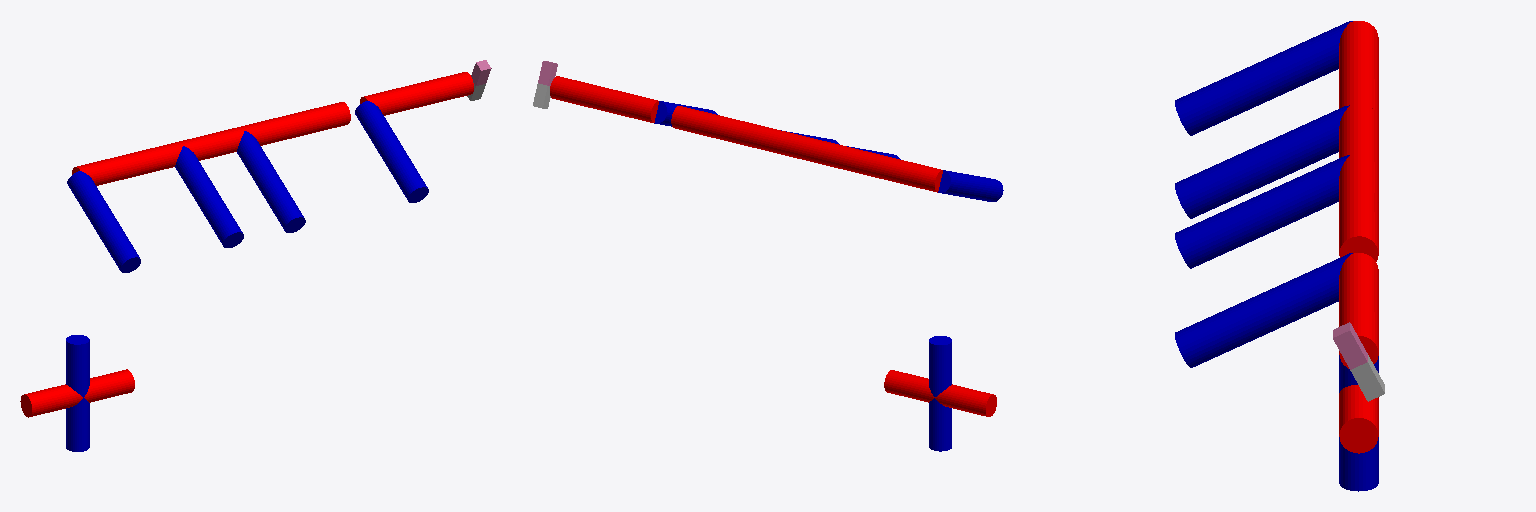
The robot description file, URDF, robot "example_robot":
<robot name="example_robot">

    <!-- Link 0 -->
    <link name="link0_passive">
        <visual>
            <material name="blue">
                <color rgba="0 0 .8 1"/>
            </material>
            <geometry>
                <cylinder length="0.5" radius="0.05"/>
            </geometry>
        </visual>
    </link>

    <link name="link0_x_axis">
        <visual>
            <material name="red">
                <color rgba="1 0 0 1"/>
            </material>
            <geometry>
                <cylinder length="0.5" radius="0.05"/>
            </geometry>
        </visual>
    </link>

    <joint name="q0_x" type="fixed">
        <origin xyz="0 0 0" rpy="0 1.571 0"/>
        <parent link="link0_passive"/>
        <child link="link0_x_axis"/>
    </joint>

    <!-- Link 1 -->
    <link name="link1"/>
    <link name="link1_x_axis">
        <visual>
            <origin xyz="0 0 0.25" rpy="0 0 0"/>
            <material name="red"/>
            <geometry>
                <cylinder length="0.5" radius="0.05"/>
            </geometry>
        </visual>
    </link>

    <joint name="q1" type="revolute">
        <origin xyz="0 0 1" rpy="0 0 0"/>
        <parent link="link0_passive"/>
        <child link="link1"/>
        <axis xyz="0 0 1"/>
        <limit effort="100" lower="-1.571" upper="1.571" velocity="1.0"/>
    </joint>

    <joint name="q1_passive" type="fixed">
        <origin xyz="0 0 0" rpy="90 0 0"/>
        <parent link="link1"/>
        <child link="link1_passive"/>
    </joint>

    <link name="link1_passive">
        <visual>
            <origin xyz="0 0 0.25" rpy="0 0 0"/>
            <material name="blue"/>
            <geometry>
                <cylinder length="0.5" radius="0.05"/>
            </geometry>
        </visual>
    </link>

    <joint name="q1_x" type="fixed">
        <origin xyz="0 0 0" rpy="0 1.571 0"/>
        <parent link="link1_passive"/>
        <child link="link1_x_axis"/>
    </joint>

    <!-- Link 2 -->
    <link name="link2"/>
    <link name="link2_x_axis">
        <visual>
            <origin xyz="0 0 0.25" rpy="0 0 0"/>
            <material name="red"/>
            <geometry>
                <cylinder length="0.5" radius="0.05"/>
            </geometry>
        </visual>
    </link>

    <joint name="q2" type="revolute">
        <origin xyz="0 0 0" rpy="0 0 0"/>
        <parent link="link1_passive"/>
        <child link="link2"/>
        <axis xyz="0 0 1"/>
        <limit effort="100" lower="-1.571" upper="1.571" velocity="1.0"/>
    </joint>

    <joint name="q2_passive" type="fixed">
        <origin xyz="0.5 0 0" rpy="0 0 0"/>
        <parent link="link2"/>
        <child link="link2_passive"/>
    </joint>

    <link name="link2_passive">
        <visual>
            <origin xyz="0 0 0.25" rpy="0 0 0"/>
            <material name="blue"/>
            <geometry>
                <cylinder length="0.5" radius="0.05"/>
            </geometry>
        </visual>
    </link>

    <joint name="q2_x" type="fixed">
        <origin xyz="0 0 0" rpy="0 1.571 0"/>
        <parent link="link2_passive"/>
        <child link="link2_x_axis"/>
    </joint>

    <!-- Link 3 -->
    <link name="link3"/>
    <link name="link3_x_axis">
        <visual>
            <origin xyz="0 0 0.25" rpy="0 0 0"/>
            <material name="red"/>
            <geometry>
                <cylinder length="0.5" radius="0.05"/>
            </geometry>
        </visual>
    </link>

    <joint name="q3" type="revolute">
        <origin xyz="0 0 0" rpy="0 0 0"/>
        <parent link="link2_passive"/>
        <child link="link3"/>
        <axis xyz="0 0 1"/>
        <limit effort="100" lower="-1.571" upper="1.571" velocity="1.0"/>
    </joint>

    <joint name="q3_passive" type="fixed">
        <origin xyz="0.3 0 0" rpy="0 0 0"/>
        <parent link="link3"/>
        <child link="link3_passive"/>
    </joint>

    <link name="link3_passive">
        <visual>
            <origin xyz="0 0 0.25" rpy="0 0 0"/>
            <material name="blue"/>
            <geometry>
                <cylinder length="0.5" radius="0.05"/>
            </geometry>
        </visual>
    </link>

    <joint name="q3_x" type="fixed">
        <origin xyz="0 0 0" rpy="0 1.571 0"/>
        <parent link="link3_passive"/>
        <child link="link3_x_axis"/>
    </joint>

    <!-- Link 6 -->
    <link name="link6"/>
    <link name="link6_x_axis">
        <visual>
            <origin xyz="0 0 0.25" rpy="0 0 0"/>
            <material name="red"/>
            <geometry>
                <cylinder length="0.5" radius="0.05"/>
            </geometry>
        </visual>
    </link>

    <joint name="q6" type="revolute">
        <origin xyz="0.3 0 0" rpy="0 0 0"/>
        <parent link="link3_passive"/>
        <child link="link6"/>
        <axis xyz="0 0 1"/>
        <limit effort="100" lower="-1.571" upper="1.571" velocity="1.0"/>
    </joint>

    <joint name="q6_passive" type="fixed">
        <origin xyz="0.3 0 0" rpy="0 0 0"/>
        <parent link="link6"/>
        <child link="link6_passive"/>
    </joint>

    <link name="link6_passive">
        <visual>
            <origin xyz="0 0 0.25" rpy="0 0 0"/>
            <material name="blue"/>
            <geometry>
                <cylinder length="0.5" radius="0.05"/>
            </geometry>
        </visual>
    </link>

    <joint name="q6_x" type="fixed">
        <origin xyz="0 0 0" rpy="0 1.571 0"/>
        <parent link="link6_passive"/>
        <child link="link6_x_axis"/>
    </joint>

    <!-- GRIPPER LINEAL - ÚNICA JOINT Q4 -->

    <!-- Enlace izquierdo de la pinza -->
    <link name="gripper_left">
        <visual>
            <origin xyz="0 0 0" rpy="0 0 0"/>
            <geometry>
                <box size="0.05 0.1 0.05"/>
            </geometry>
            <material name="green"/>
        </visual>
    </link>

    <!-- Enlace derecho de la pinza -->
    <link name="gripper_right">
        <visual>
            <origin xyz="0 0 0" rpy="0 0 0"/>
            <geometry>
                <box size="0.05 0.1 0.05"/>
            </geometry>
            <material name="green"/>
        </visual>
    </link>

    <!-- Junta Q4 (principal) -->
    <joint name="q4" type="prismatic">
        <origin xyz="0.55 0.05 0" rpy="0 0 0"/>
        <parent link="link6_passive"/>
        <child link="gripper_left"/>
        <axis xyz="0 1 0"/>
        <limit effort="10" velocity="0.1" lower="-0.03" upper="0.03"/>
    </joint>

    <!-- Junta pasiva que imita Q4 -->
    <joint name="q4_mimic" type="prismatic">
        <origin xyz="0.55 -0.05 0" rpy="0 0 0"/>
        <parent link="link6_passive"/>
        <child link="gripper_right"/>
        <axis xyz="0 1 0"/>
        <limit effort="10" velocity="0.1" lower="-0.03" upper="0.03"/>
        <mimic joint="q4" multiplier="-1"/>
    </joint>

</robot>

--- Render facts (derived) ---
Views: 3 orthographic renders of the robot side by side, from view 1: azimuth 30°, elevation 25°; view 2: azimuth 150°, elevation 25°; view 3: azimuth 270°, elevation 25°.
Robot: example_robot — 16 links, 15 joints (4 revolute, 2 prismatic, 9 fixed); root link link0_passive; default pose: every joint at zero.
Visible links, largest first — view 1: link6_passive, link1_passive, link2_passive, link3_passive, link0_passive, link0_x_axis, link6_x_axis, link1_x_axis, link3_x_axis, link2_x_axis; view 2: link6_x_axis, link1_x_axis, link2_x_axis, link0_x_axis, link0_passive, link3_x_axis, link1_passive; view 3: link6_passive, link3_passive, link1_passive, link2_passive, link6_x_axis, link1_x_axis, link3_x_axis, link2_x_axis, link0_x_axis, link0_passive, gripper_left, gripper_right.
Boxes of the visible links, box(x1,y1,x2,y2) form: link6_passive: box(355, 101, 428, 202); link1_passive: box(67, 171, 140, 272); link2_passive: box(175, 146, 243, 247); link3_passive: box(237, 131, 305, 232); link0_passive: box(66, 335, 89, 451); link0_x_axis: box(20, 369, 134, 417); link6_x_axis: box(360, 72, 473, 115); link1_x_axis: box(72, 142, 182, 185); link3_x_axis: box(246, 102, 350, 145); link2_x_axis: box(179, 117, 285, 160); link6_x_axis: box(550, 76, 658, 122); link1_x_axis: box(834, 145, 942, 192); link2_x_axis: box(732, 121, 839, 167); link0_x_axis: box(884, 370, 996, 416); link0_passive: box(929, 336, 951, 451); link3_x_axis: box(671, 106, 739, 142); link1_passive: box(938, 170, 1003, 201); link6_passive: box(1175, 253, 1352, 367); link3_passive: box(1175, 155, 1349, 268); link1_passive: box(1175, 21, 1352, 135); link2_passive: box(1175, 105, 1349, 218); link6_x_axis: box(1339, 253, 1378, 368); link1_x_axis: box(1339, 21, 1378, 119); link3_x_axis: box(1339, 156, 1378, 261); link2_x_axis: box(1339, 104, 1378, 202); link0_x_axis: box(1339, 385, 1378, 453); link0_passive: box(1339, 355, 1378, 491); gripper_left: box(1333, 322, 1367, 369); gripper_right: box(1350, 355, 1384, 401).
Bounding box of the posed robot: 2.23 × 0.5366 × 1.35 m (x, y, z).
Geometry: primitives only (box / cylinder / sphere), no mesh files.